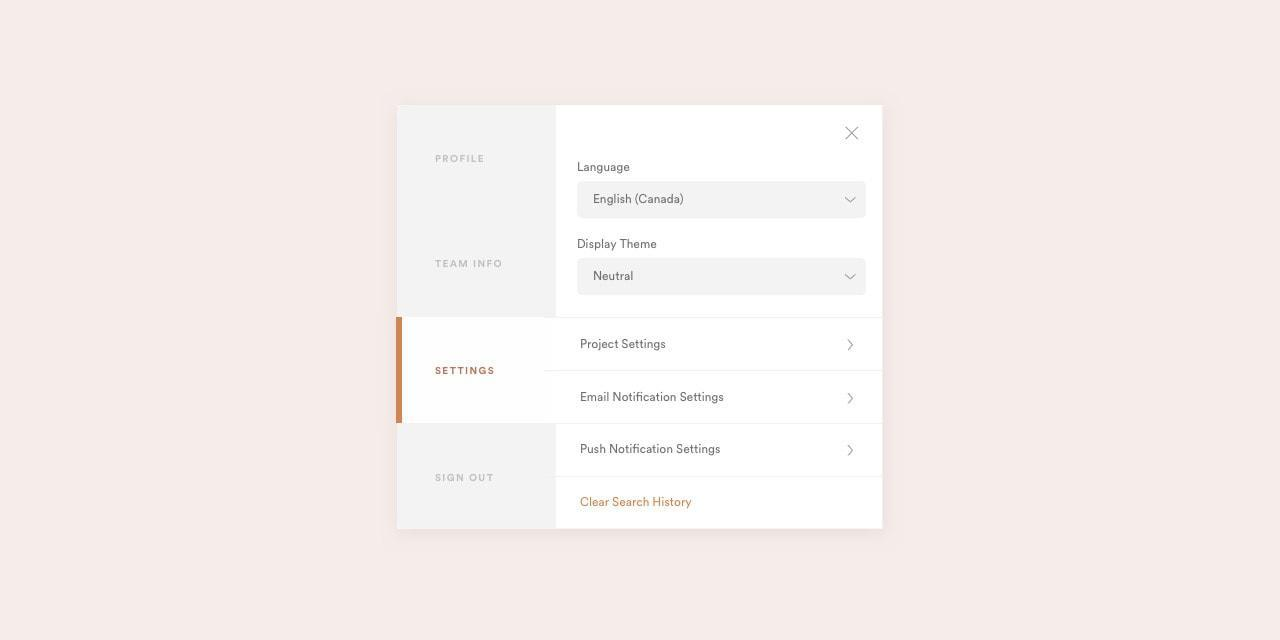dropdown: (576, 257, 869, 300), (577, 180, 870, 217)
icon: (846, 389, 862, 410), (844, 336, 861, 355), (843, 126, 863, 142), (846, 445, 858, 463)
label: (575, 239, 658, 250), (576, 159, 631, 174)
